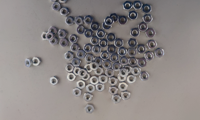nut: (123, 1, 133, 11), (133, 0, 143, 10), (130, 28, 140, 38), (155, 48, 165, 58), (119, 68, 129, 78), (107, 45, 117, 55), (119, 82, 129, 92), (138, 23, 149, 32), (147, 40, 158, 49), (143, 4, 152, 14), (129, 11, 138, 21), (118, 16, 128, 25), (146, 29, 156, 38), (137, 45, 147, 54), (128, 39, 138, 48), (140, 72, 150, 81), (138, 59, 148, 68), (99, 39, 108, 49), (107, 33, 116, 43), (86, 84, 95, 94), (85, 105, 95, 114), (90, 76, 99, 86), (128, 48, 138, 57), (115, 39, 124, 49), (120, 57, 129, 67), (118, 47, 127, 57), (110, 53, 119, 63), (101, 51, 110, 61), (112, 63, 122, 72), (129, 57, 138, 67), (127, 75, 137, 84), (109, 77, 118, 87), (50, 77, 59, 86), (58, 30, 67, 39), (60, 39, 69, 48), (65, 52, 74, 61), (75, 16, 84, 25), (69, 35, 78, 44), (84, 16, 93, 25), (49, 37, 58, 46), (73, 89, 82, 98), (84, 44, 93, 53), (77, 81, 86, 90), (105, 17, 114, 26), (103, 22, 112, 31), (145, 52, 154, 61), (97, 30, 106, 39), (93, 46, 102, 55), (90, 62, 99, 71), (82, 73, 91, 82), (96, 84, 105, 93), (99, 75, 108, 84), (103, 61, 112, 70), (106, 69, 115, 78), (132, 67, 141, 76), (122, 92, 131, 101), (112, 95, 121, 104), (109, 87, 118, 96), (143, 15, 153, 23), (60, 8, 70, 16), (84, 30, 94, 38), (78, 70, 88, 78), (85, 55, 95, 63), (66, 17, 74, 26), (46, 32, 54, 41), (71, 44, 80, 52), (77, 26, 86, 34), (72, 59, 81, 67), (67, 74, 76, 82), (91, 23, 100, 31), (77, 51, 86, 59), (110, 14, 119, 22), (91, 37, 100, 45), (85, 64, 93, 73), (84, 94, 93, 102), (94, 58, 103, 66), (95, 68, 104, 76), (128, 49, 137, 57), (123, 66, 132, 74), (118, 74, 127, 82), (53, 3, 61, 11), (49, 27, 57, 35), (66, 65, 74, 73), (25, 59, 32, 68), (33, 58, 40, 66), (41, 32, 47, 41), (74, 68, 80, 76), (59, 0, 68, 3), (50, 1, 58, 2)
